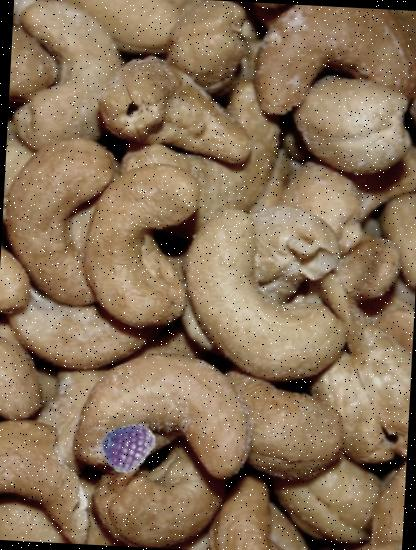Raspberry: (102, 420, 160, 478)
